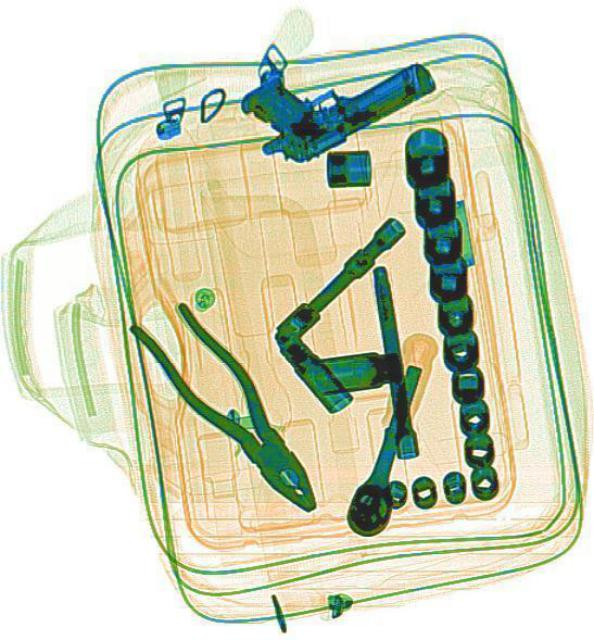Gun: (230, 10, 436, 176)
Pliers: (124, 287, 335, 528)
